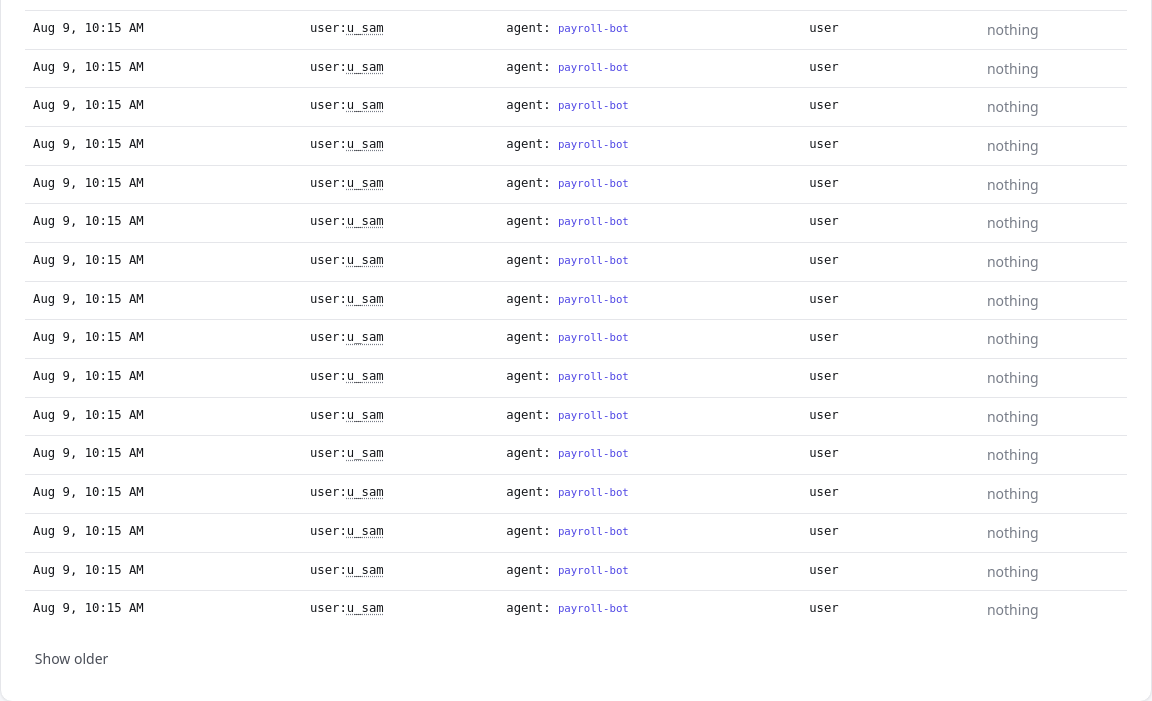
Test case: the two incident questions › offers older rows after a full page, before the oldest one shown
(page scrolled)
Click the button "Show older" at (72, 659), box [25,641,118,677]
(page scrolled)
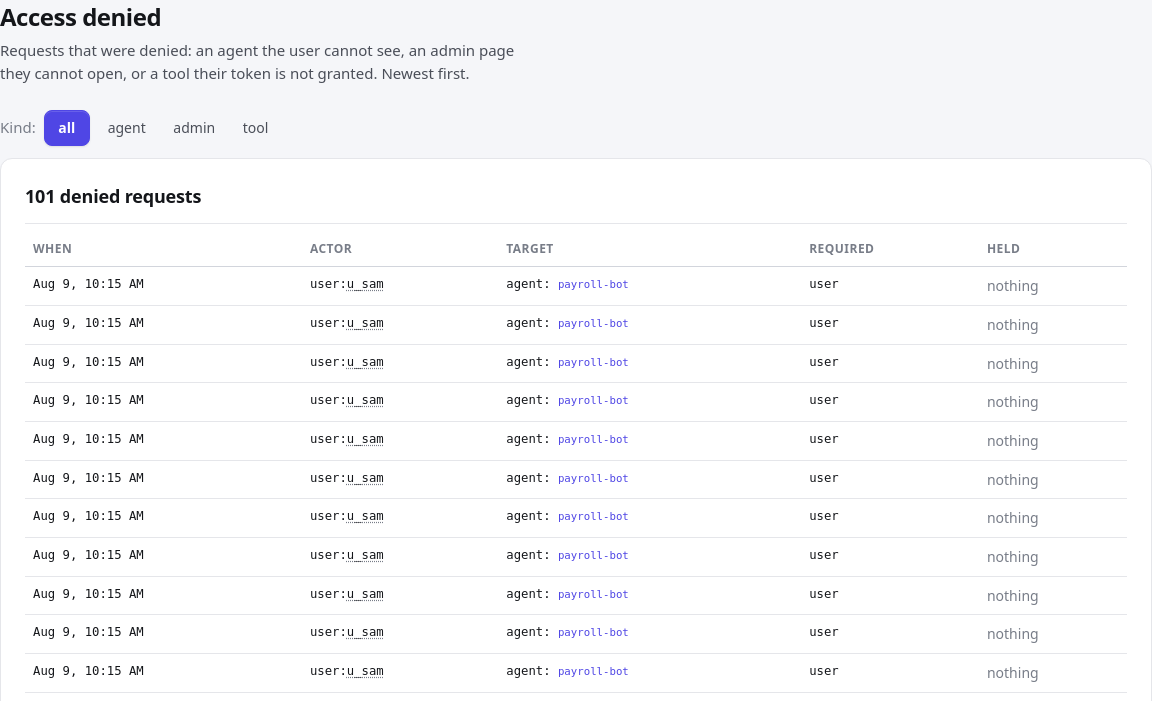
Check: the heading "101 denied requests" is shown, box [25,183,201,211]
